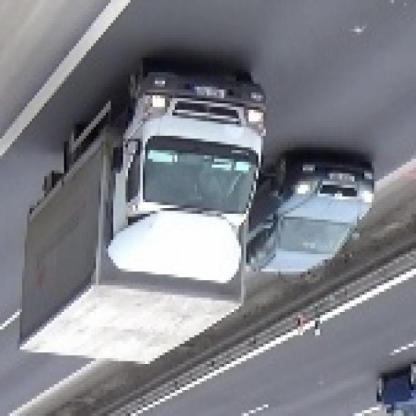truck: (21, 70, 270, 371)
